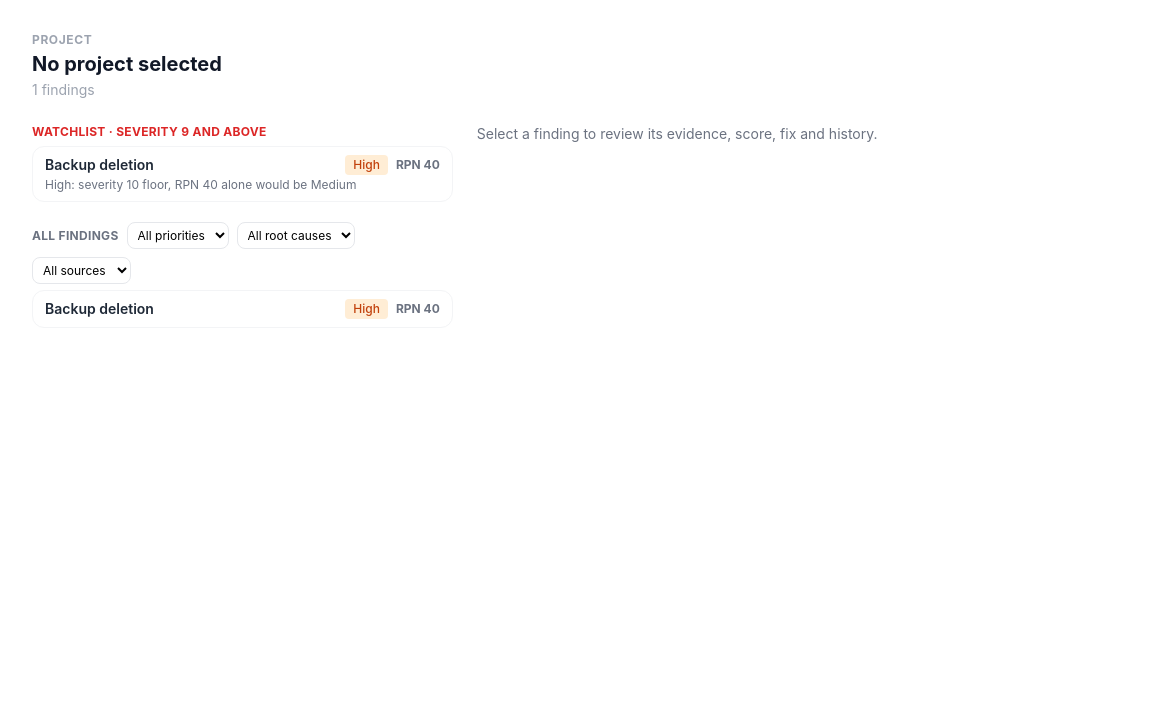
the findings page with the real result shape › shows what the server sent, after the app maps it
Expected: the text "High: severity 10 floor, RPN 40 alone would be Medium" is shown, left=45, top=177, right=356, bottom=192
Click the button "Backup deletion".
click(242, 174)  # box left=32, top=146, right=453, bottom=202
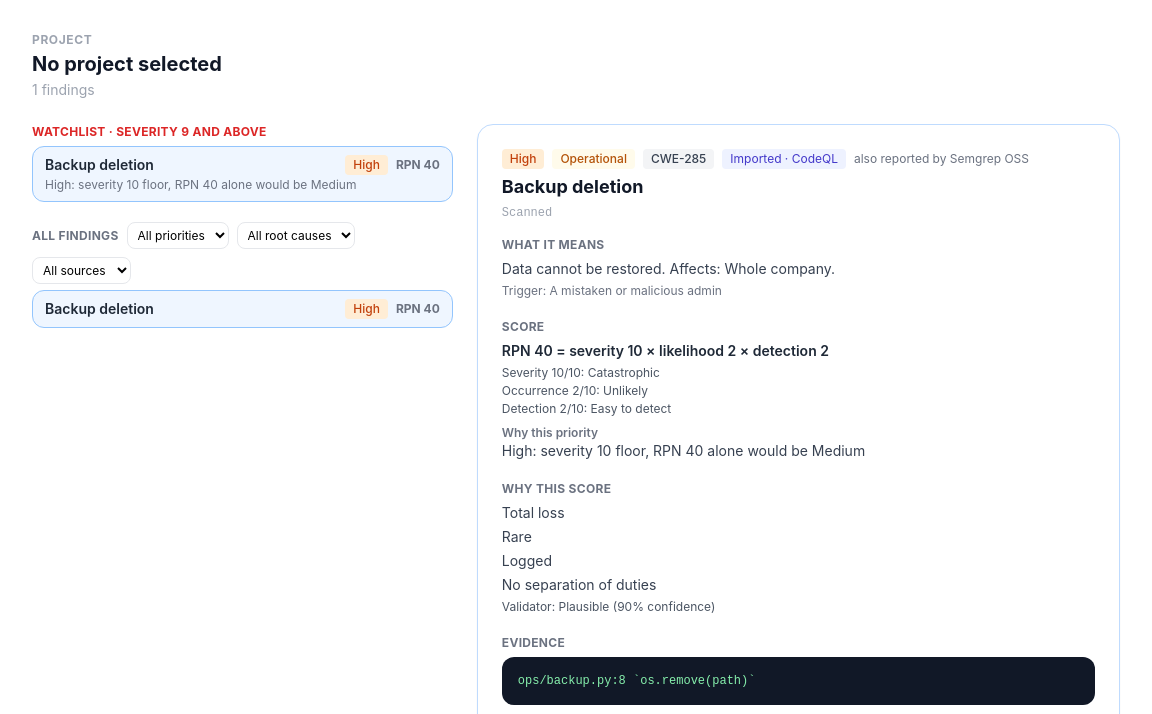
Now the text "Data cannot be restored. Affects: Whole company." is shown, box left=502, top=260, right=835, bottom=277
Now the text "CWE-285" is shown, box left=643, top=149, right=714, bottom=169
Now the text "Imported · CodeQL" is shown, box left=722, top=149, right=846, bottom=169
